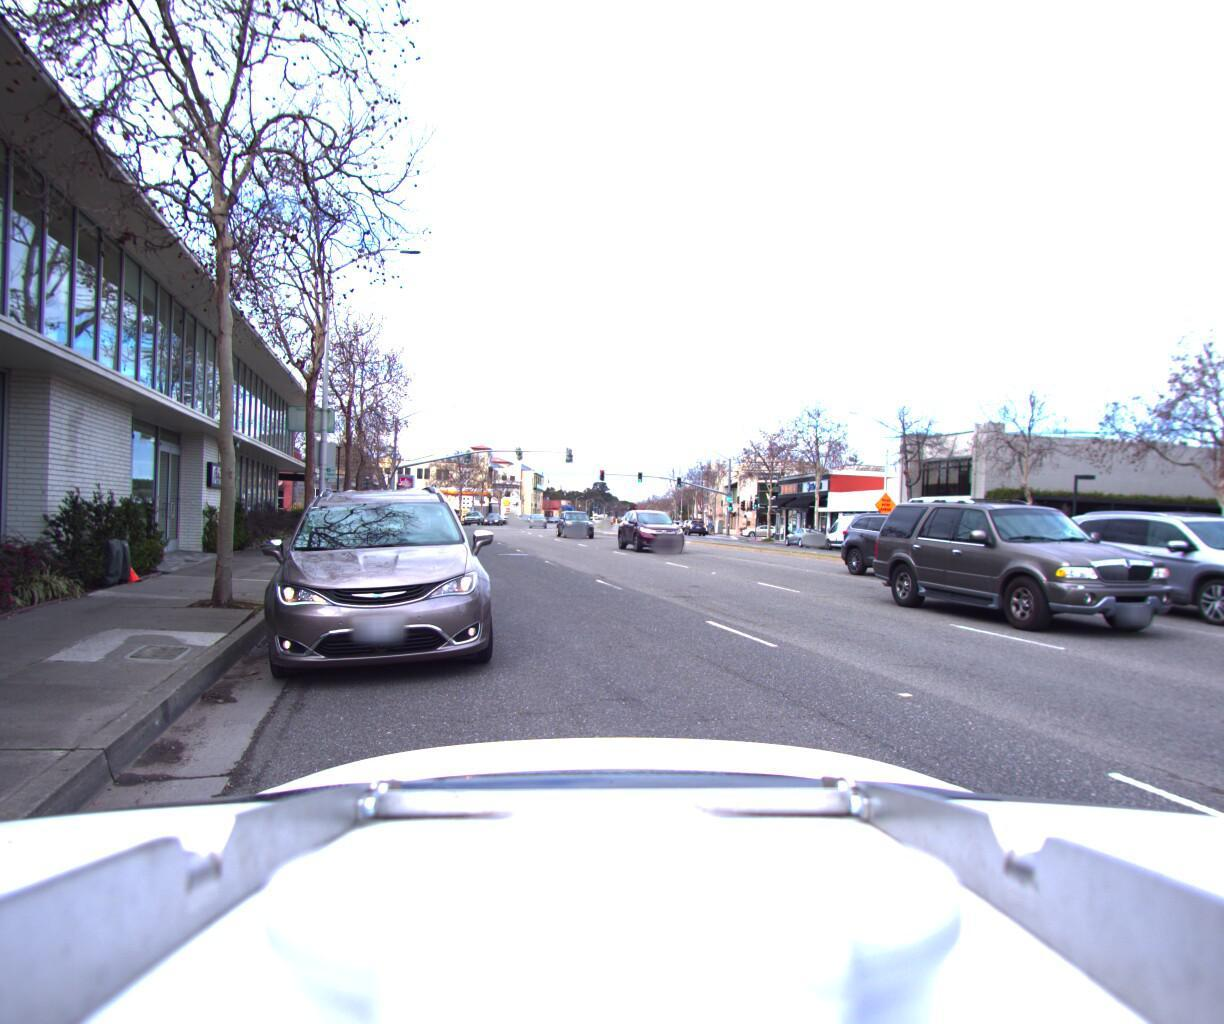car: (216, 464, 527, 700), (894, 484, 1224, 662), (1031, 504, 1224, 634), (829, 508, 1013, 588), (812, 506, 896, 553), (613, 507, 694, 554), (774, 523, 832, 547), (556, 509, 594, 536), (680, 515, 708, 535), (527, 511, 547, 528)
